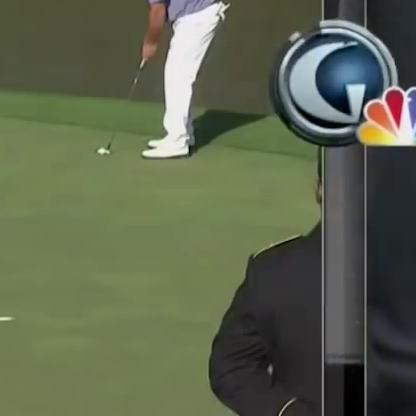golfball: (93, 147, 106, 157)
